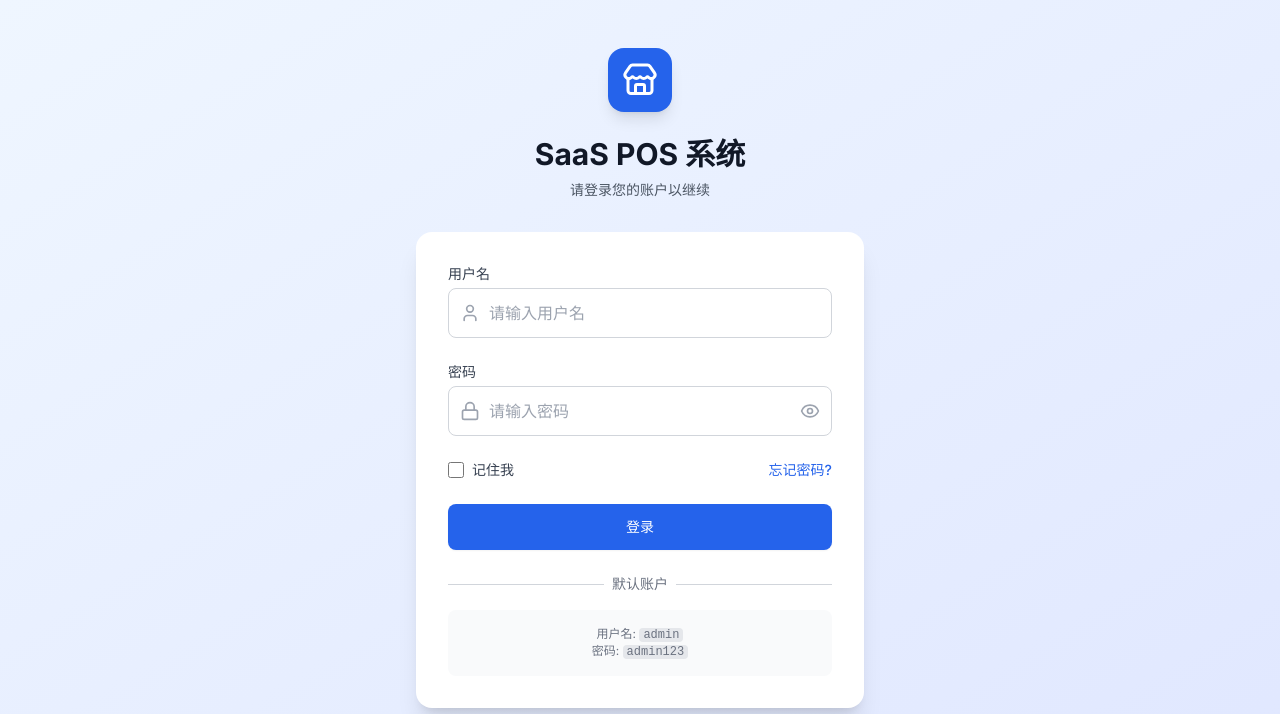
Test: Login Component › Form submission › should display error message on login failure
Type "wrong" into the field labelled "用户名" at coordinates (640, 313), box [448,288,832,338]
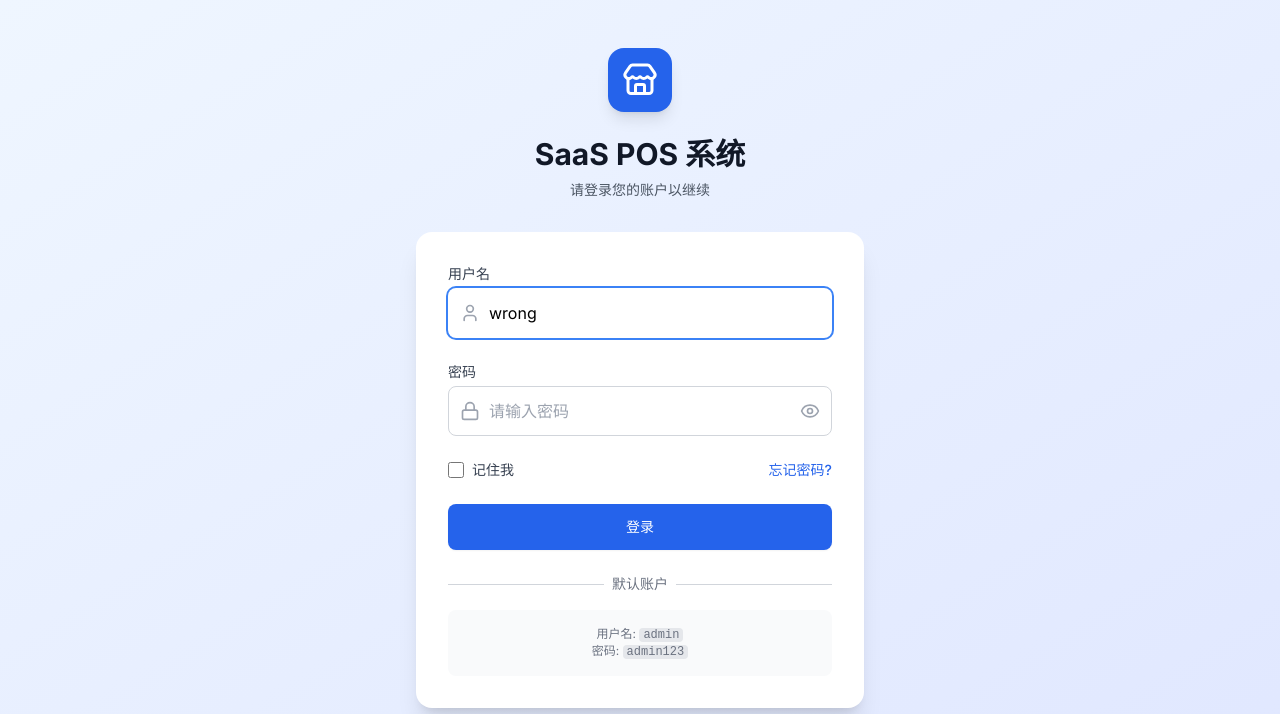
Type "wrong" into the password field labelled "密码" at coordinates (640, 411), box [448,386,832,436]
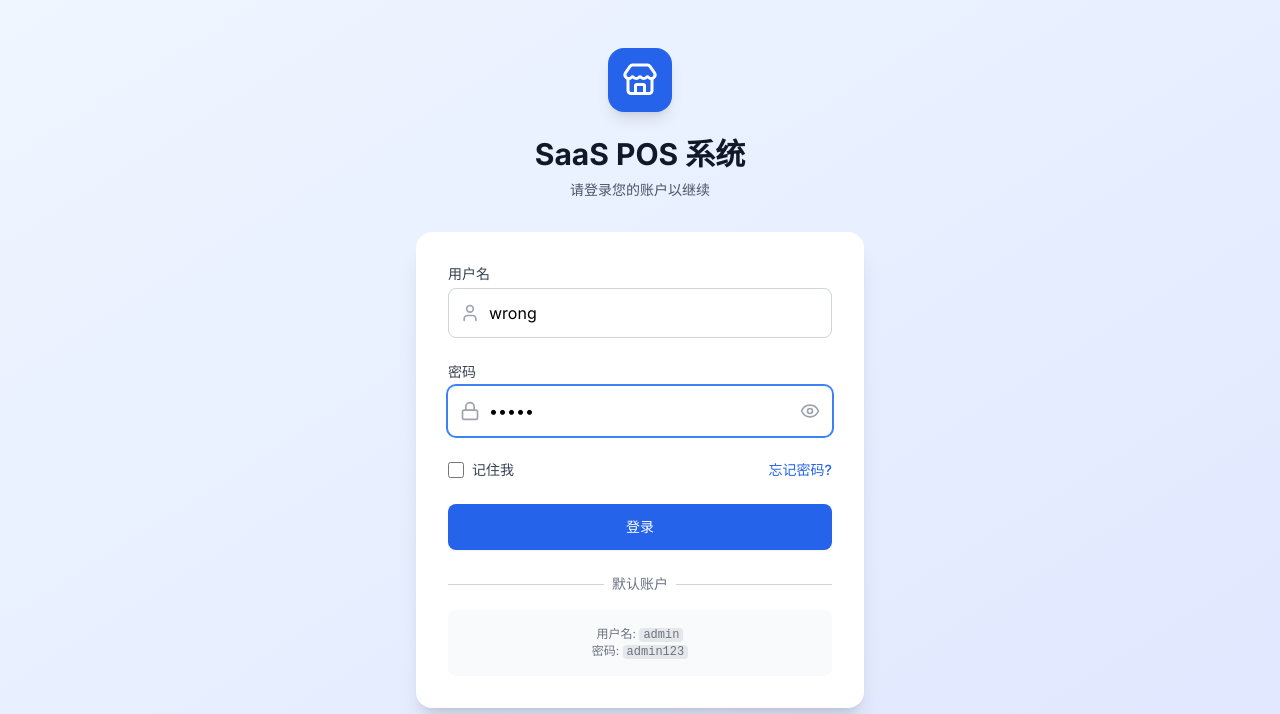
Click the button "登录" at coordinates (640, 527), box [448,504,832,550]
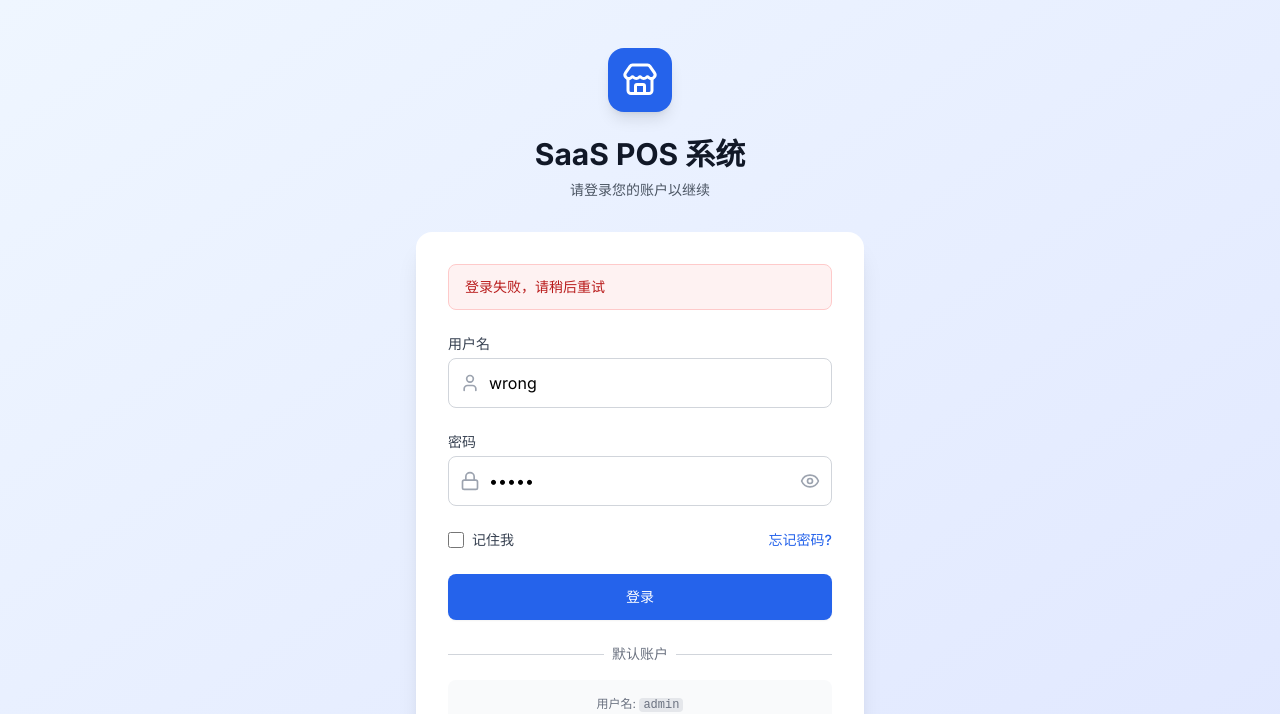
Expected: the text "登录失败，请稍后重试" is shown, [448,264,832,310]
